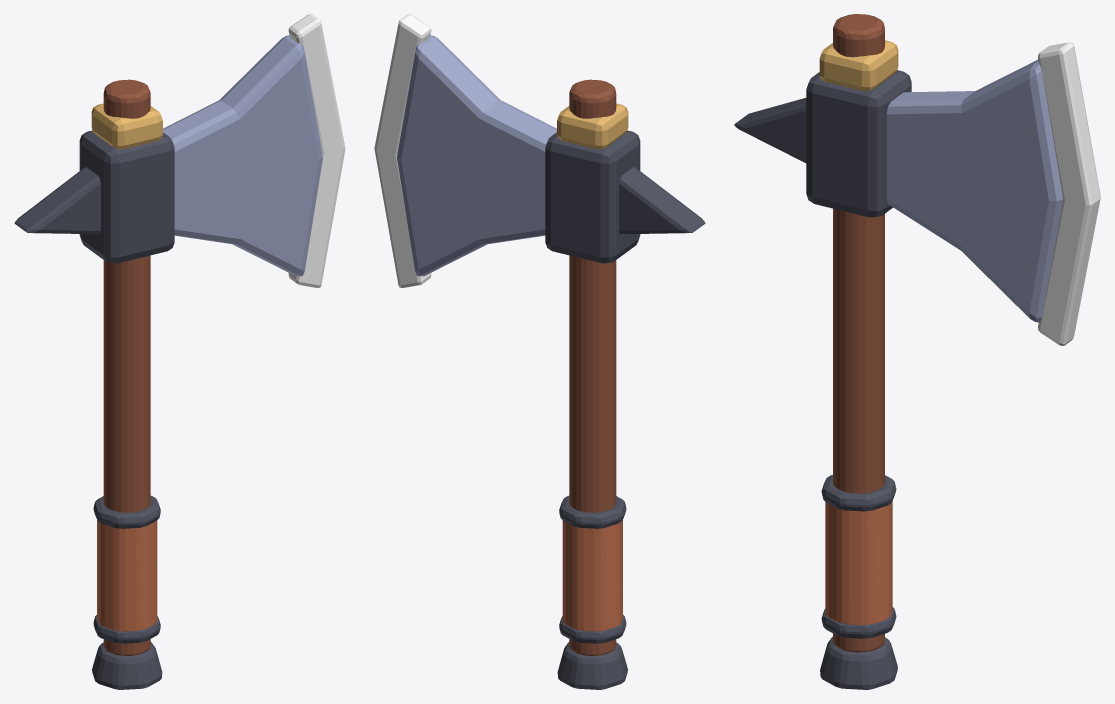
File: weapon-axe.glb
3 views of the same model, side by side, from view 1: azimuth 30°, elevation 25°; view 2: azimuth 150°, elevation 25°; view 3: azimuth 330°, elevation 25° (orthographic). The views are drawn at different scales.
Visible parts, largest first — view 1: weapon-axe; view 2: weapon-axe; view 3: weapon-axe.
Boxes of the visible parts, bbox=[...] form: weapon-axe: bbox=[14, 14, 345, 689]; weapon-axe: bbox=[374, 14, 705, 689]; weapon-axe: bbox=[734, 14, 1100, 689].
Bounding box in the file's own units: 0.3223 × 0.5885 × 0.0623.
Materials: 1 (1 with a texture image).
